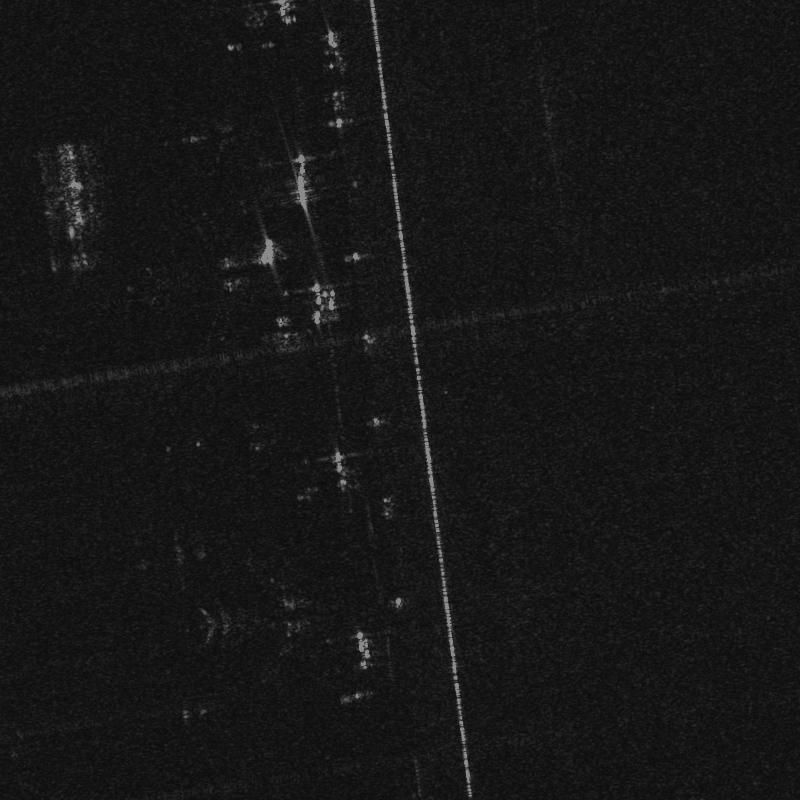A220: (172, 104, 240, 170)
Boeing787: (202, 556, 342, 678)
